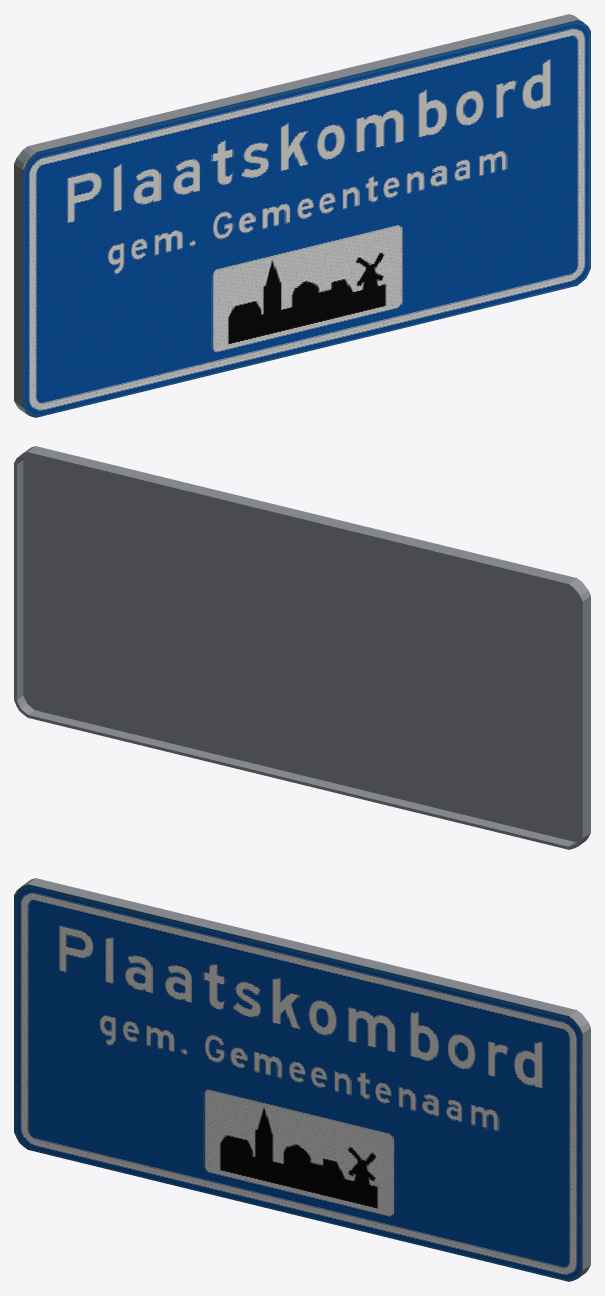
3 renders of one model, top to bottom at view 1: azimuth 30°, elevation 25°; view 2: azimuth 150°, elevation 25°; view 3: azimuth 330°, elevation 25°, orthographic.
Parts seen in each view (by area): view 1: cat_1dfbde3d41744e3f; view 2: cat_1dfbde3d41744e3f; view 3: cat_1dfbde3d41744e3f.
Boxes of the visible parts, box(x1,y1,x2,y2) form: cat_1dfbde3d41744e3f: box(14, 14, 590, 417); cat_1dfbde3d41744e3f: box(14, 446, 590, 849); cat_1dfbde3d41744e3f: box(14, 878, 590, 1281).
Size of the model in its own units: 0.6 by 0.015 by 0.2678.
2 materials, 1 textured.
